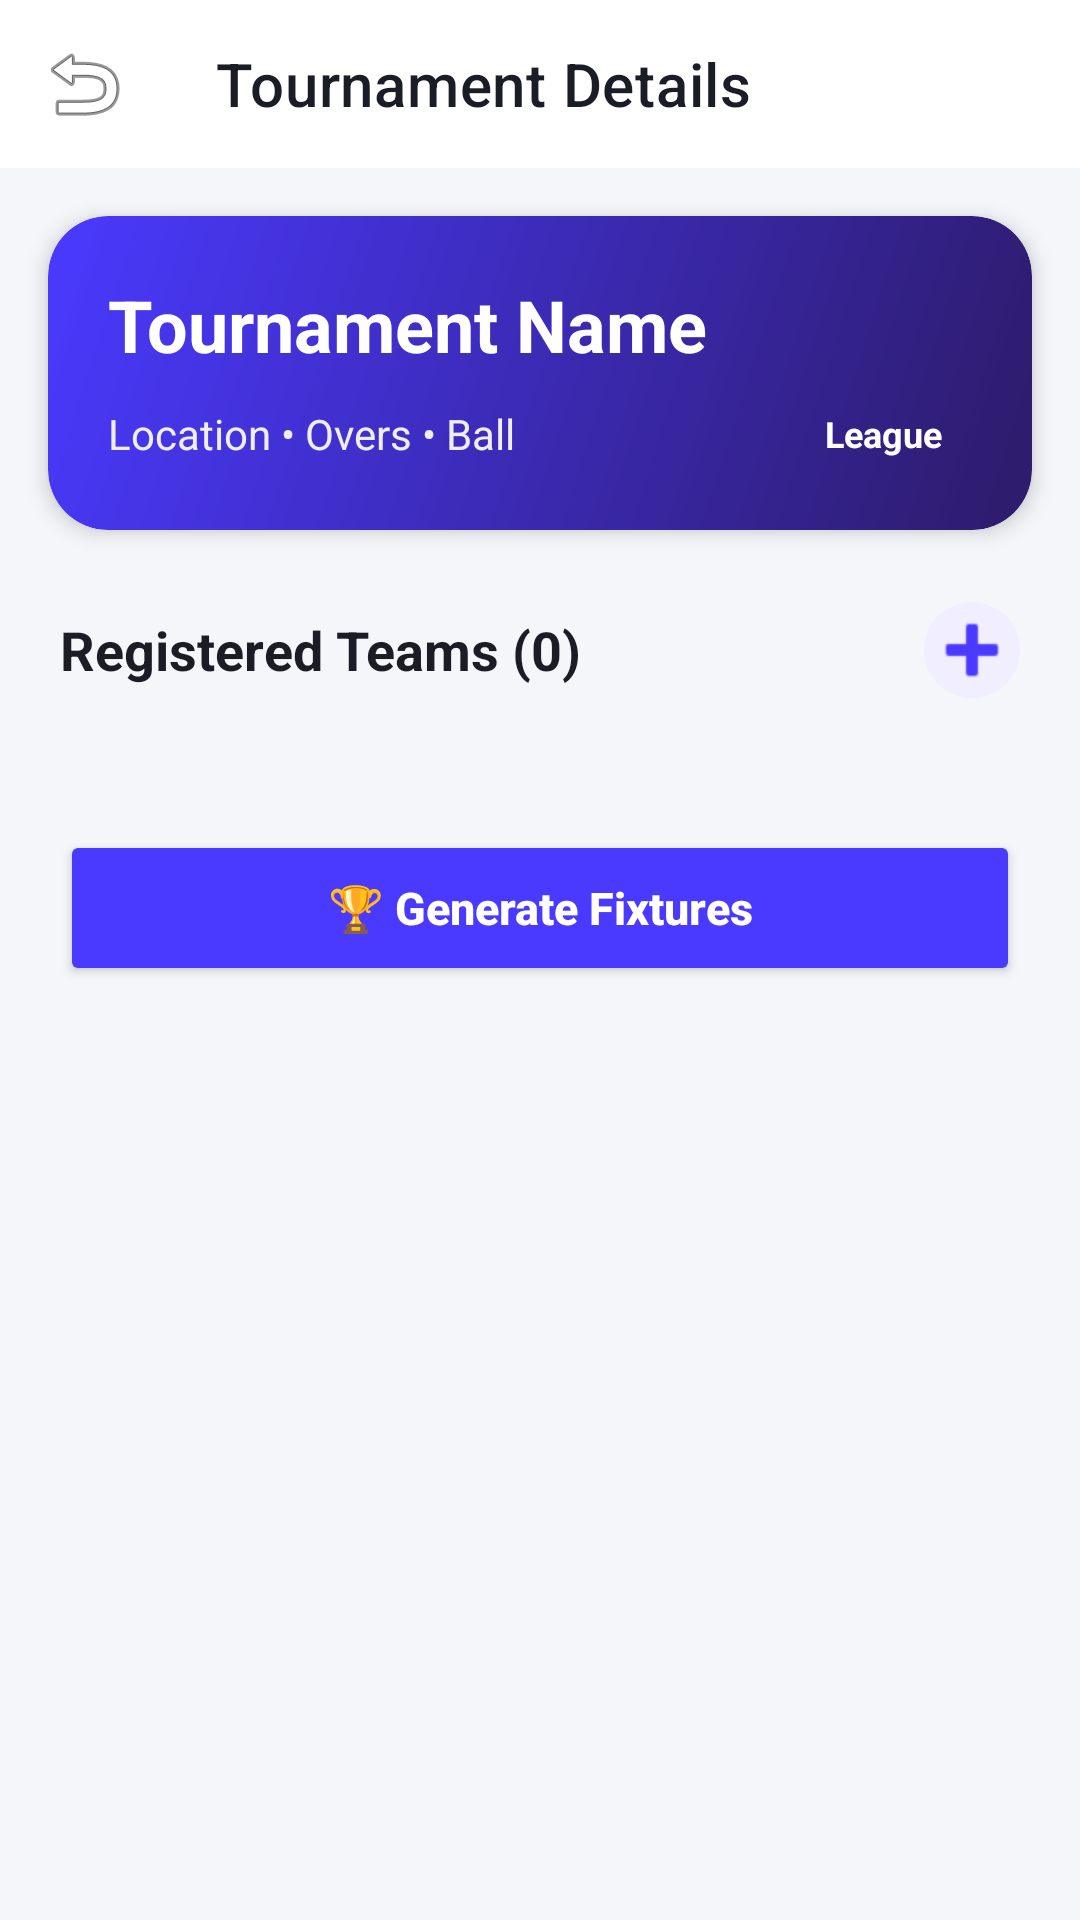

Where to tap for icons on this 1080px x 1920px app screen, as (x=x, y=y):
Add Team: (x=972, y=650)
